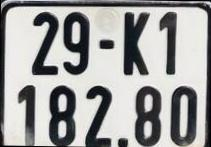-: (99, 40, 113, 49)
.: (119, 139, 128, 147)
0: (171, 86, 196, 145)
1: (160, 12, 176, 76), (19, 85, 36, 145)
2: (32, 11, 57, 75), (86, 86, 111, 147)
8: (50, 86, 76, 145), (135, 86, 161, 145)
9: (64, 12, 89, 75)
K: (124, 12, 148, 74)
